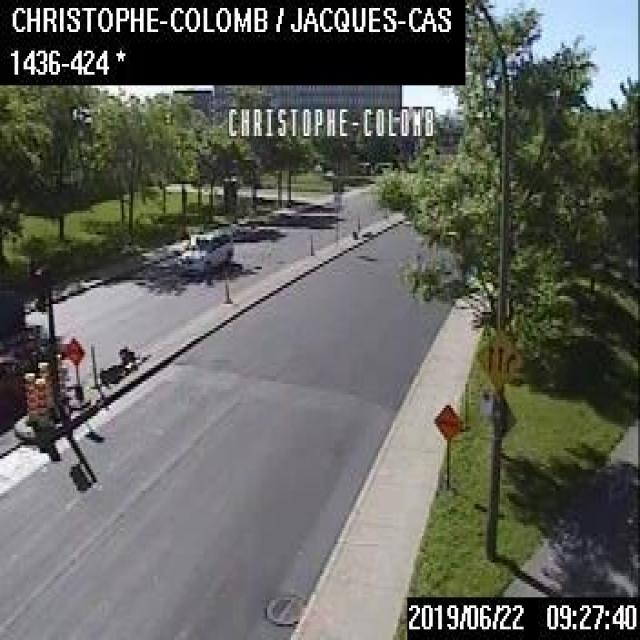construction: (432, 400, 461, 490), (64, 335, 89, 406), (32, 375, 46, 429), (36, 359, 50, 413), (23, 370, 35, 424), (55, 350, 63, 400)
vehicle: (172, 227, 232, 280)
